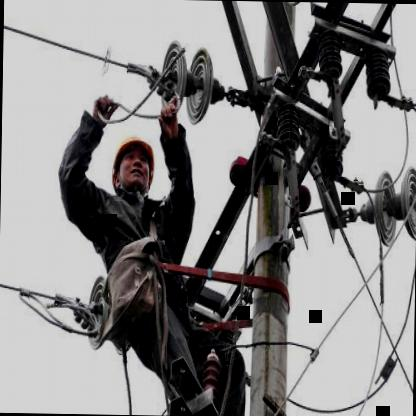helmet: (108, 119, 159, 202)
